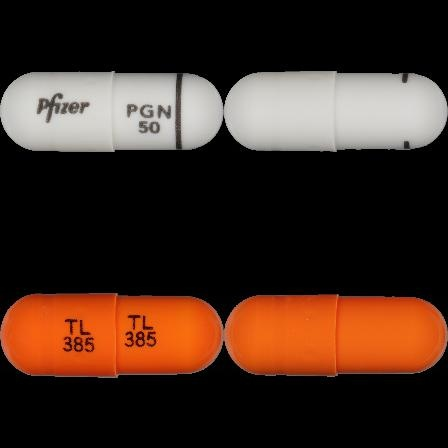42549-660: (0, 0, 224, 224)
